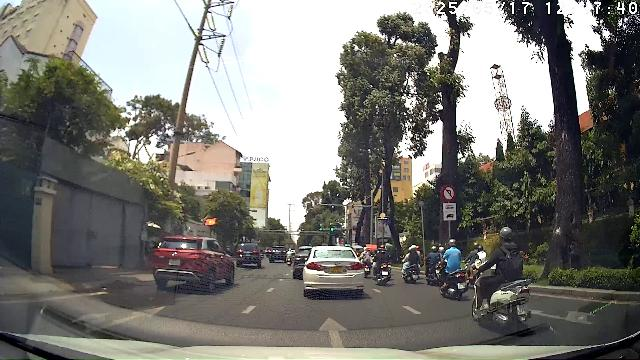123a-cam-re-trai: (441, 184, 456, 201)
